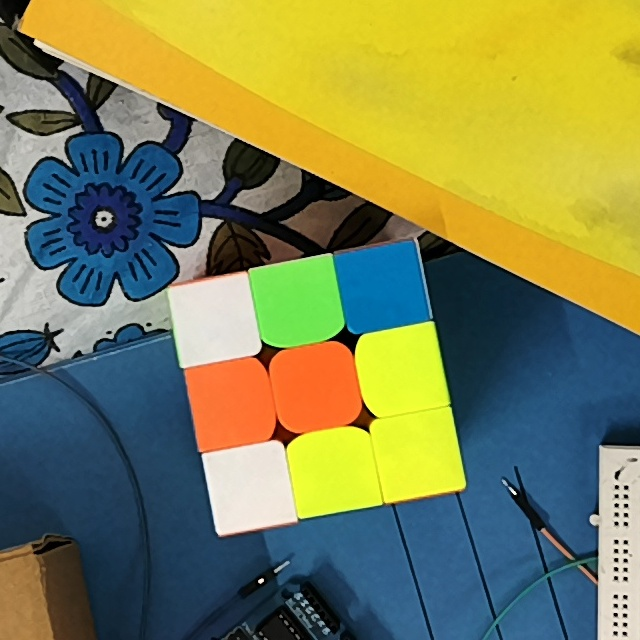tile: (198, 370, 264, 437), (262, 270, 330, 335), (282, 355, 350, 420), (351, 253, 417, 319), (218, 454, 284, 520), (385, 422, 451, 488), (180, 287, 249, 350), (369, 339, 435, 404), (300, 441, 368, 502)
